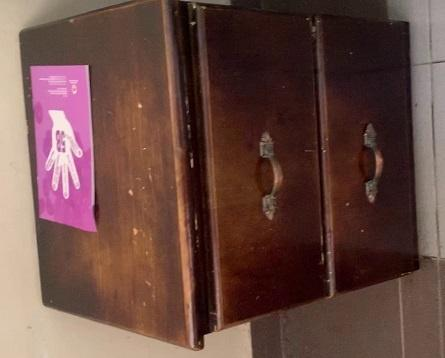cabinet_door: (208, 12, 326, 318), (324, 19, 413, 285)
handle: (253, 131, 286, 221), (360, 122, 389, 204)
